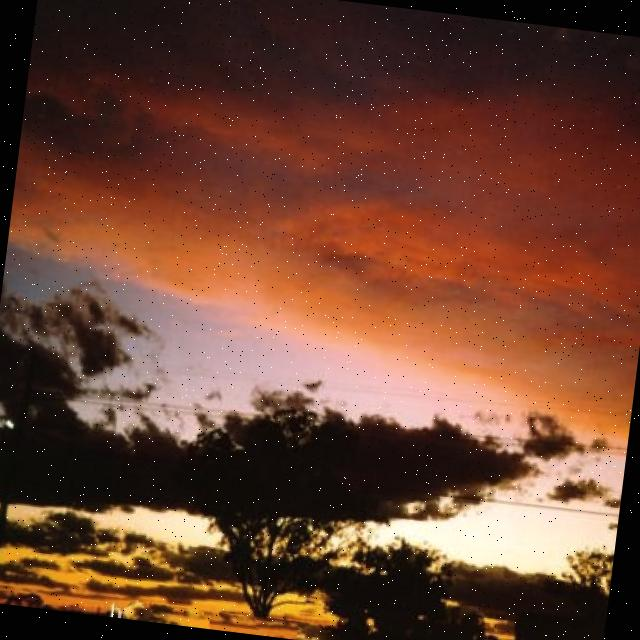Cs: (1, 1, 640, 456)
